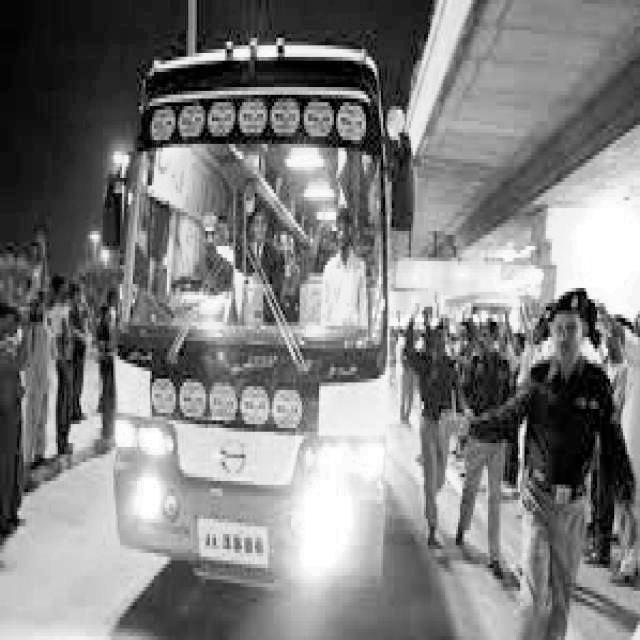Bus: (92, 26, 435, 614)
